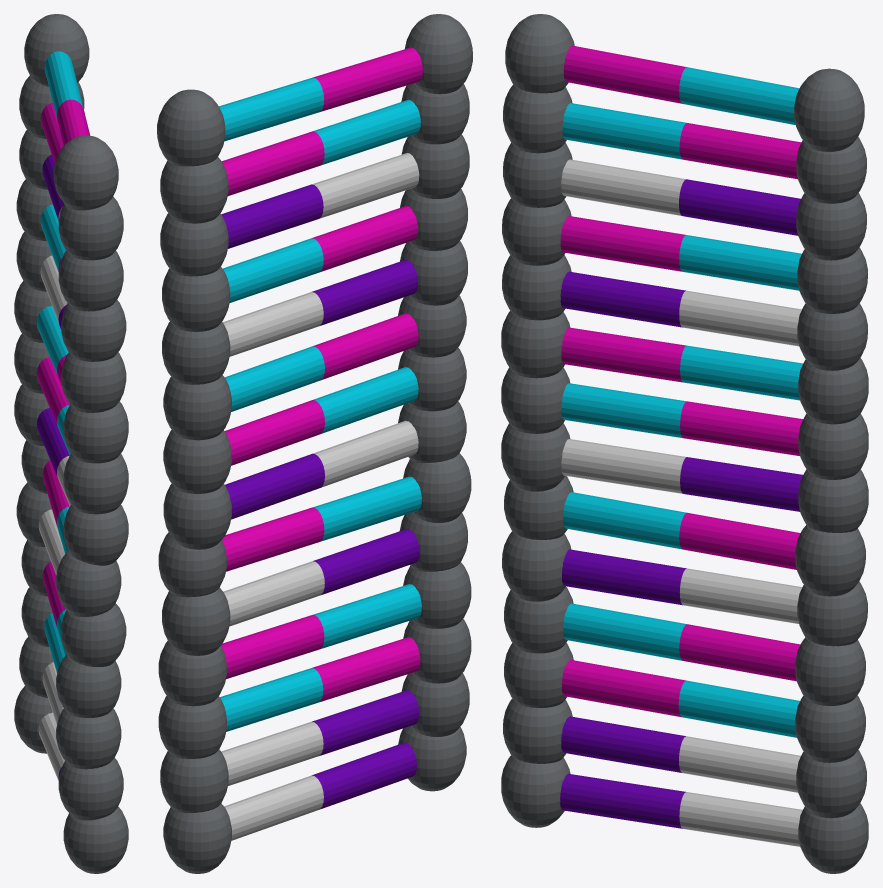
The model's file is DNAflat.glb.
The picture shows the model from 3 angles, left to right: view 1: azimuth 30°, elevation 25°; view 2: azimuth 150°, elevation 25°; view 3: azimuth 270°, elevation 25°; orthographic projection. The views are drawn at different scales.
Parts seen in each view (by area): view 1: Mesh_Mesh_head_geo.001_lambert2SG.001; view 2: Mesh_Mesh_head_geo.001_lambert2SG.001; view 3: Mesh_Mesh_head_geo.001_lambert2SG.001.
Boxes of the visible parts, left/top/right/bottom form: Mesh_Mesh_head_geo.001_lambert2SG.001: left=14, top=14, right=128, bottom=873; Mesh_Mesh_head_geo.001_lambert2SG.001: left=157, top=14, right=472, bottom=873; Mesh_Mesh_head_geo.001_lambert2SG.001: left=501, top=14, right=868, bottom=873.
Size of the model in its own units: 39.2 by 173 by 71.79.
